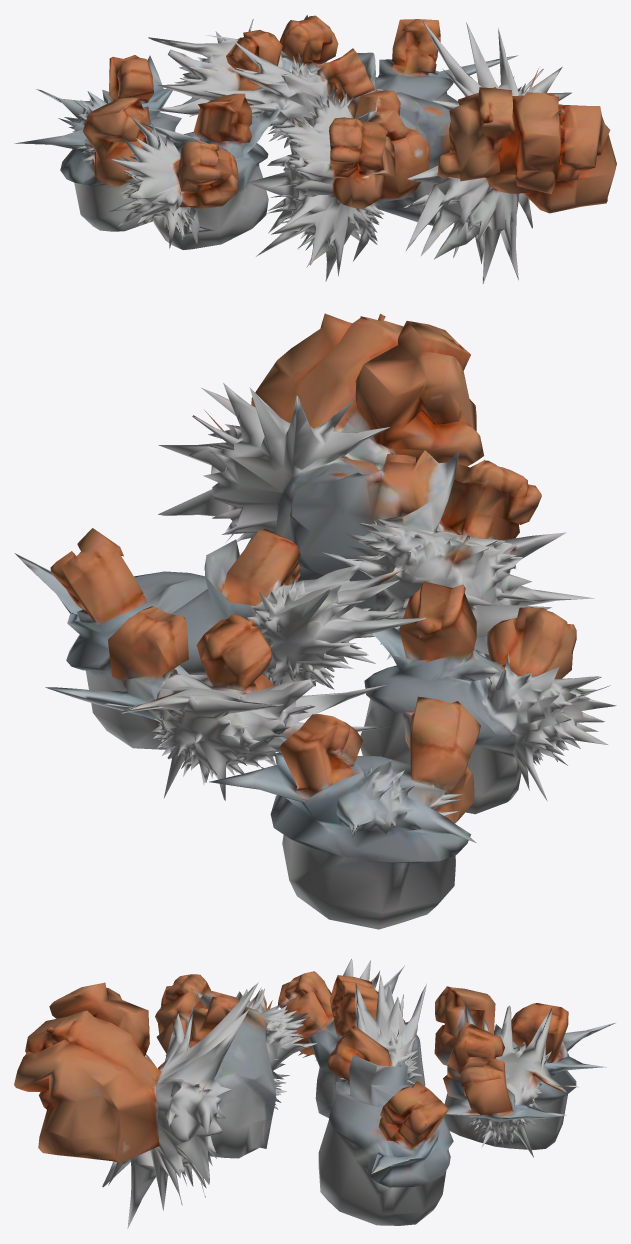
File: rubber_c.glb
3 views of the same model, one above another, from view 1: azimuth 30°, elevation 25°; view 2: azimuth 150°, elevation 25°; view 3: azimuth 270°, elevation 25° (orthographic). The views are drawn at different scales.
Visible parts, largest first — view 1: tripo_node_ecd507f0-4f66-475f-8357-462ee0396137; view 2: tripo_node_ecd507f0-4f66-475f-8357-462ee0396137; view 3: tripo_node_ecd507f0-4f66-475f-8357-462ee0396137.
Boxes of the visible parts, left/top/right/bottom form: tripo_node_ecd507f0-4f66-475f-8357-462ee0396137: left=14, top=15, right=616, bottom=283; tripo_node_ecd507f0-4f66-475f-8357-462ee0396137: left=14, top=313, right=616, bottom=929; tripo_node_ecd507f0-4f66-475f-8357-462ee0396137: left=14, top=959, right=615, bottom=1228.
Bounding box in the file's own units: 0.8177 × 0.4483 × 0.9792.
1 material, 1 textured.
